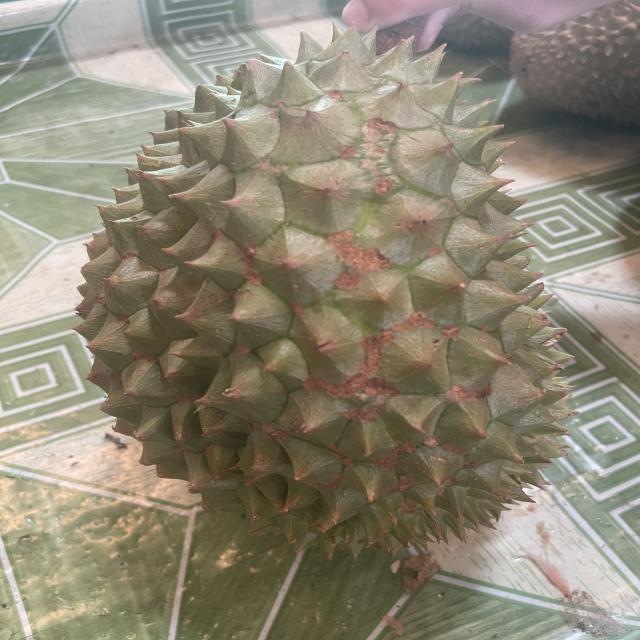mature: (69, 22, 601, 564)
